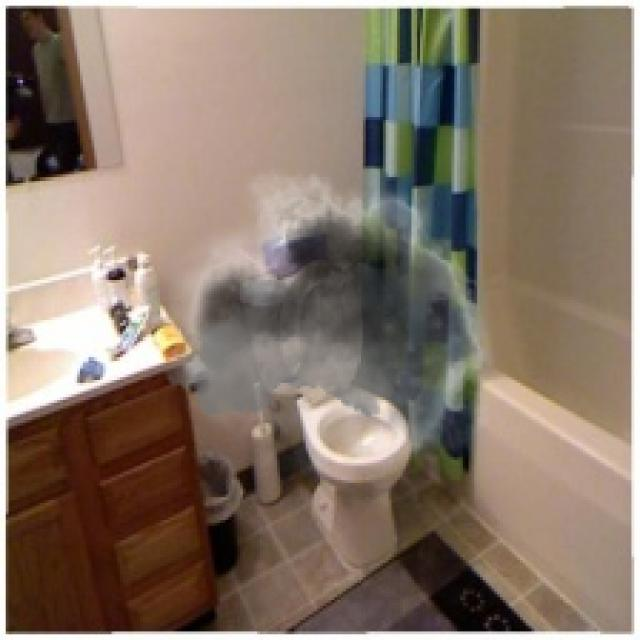smoke: (163, 154, 508, 512)
